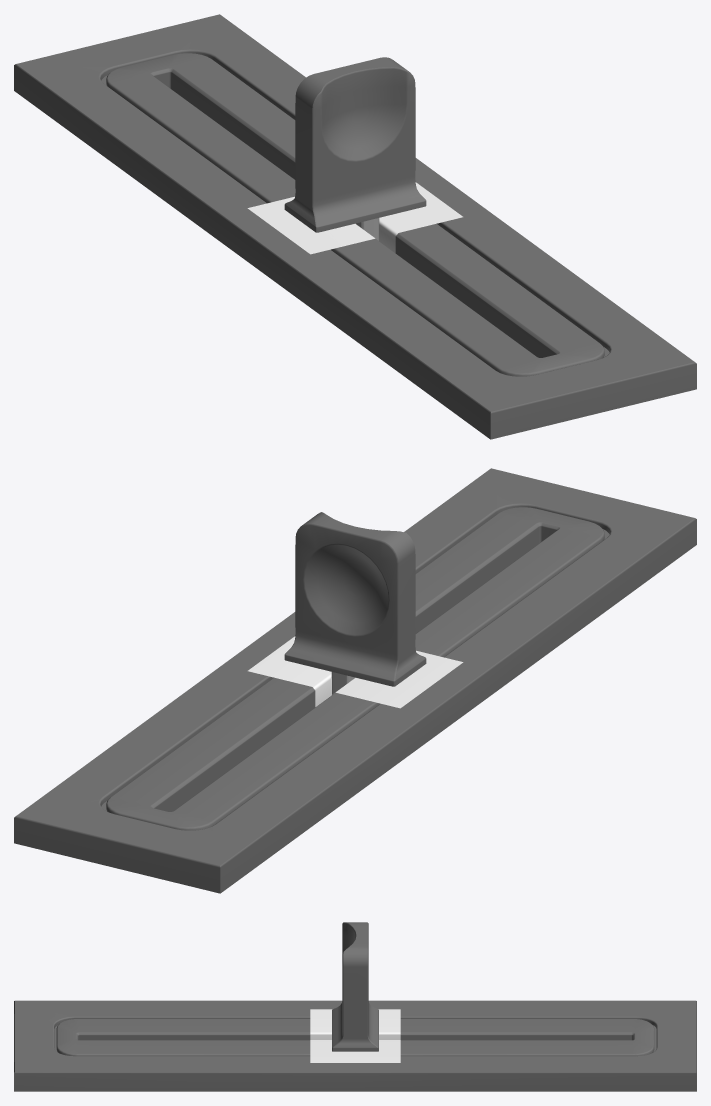
Rendered from SliderSnapToggle.fbx.
3 renders of one model, top to bottom at view 1: azimuth 30°, elevation 25°; view 2: azimuth 150°, elevation 25°; view 3: azimuth 270°, elevation 25°, orthographic. The views are drawn at different scales.
Visible parts, largest first — view 1: Cube_1, Handle_1, HandleBaseShadow_1; view 2: Cube_1, Handle_1, HandleBaseShadow_1; view 3: Cube_1, Handle_1, HandleBaseShadow_1.
Boxes of the visible parts, bbox=[...] form: Cube_1: bbox=[14, 14, 696, 439]; Handle_1: bbox=[284, 57, 426, 232]; HandleBaseShadow_1: bbox=[247, 182, 462, 254]; Cube_1: bbox=[14, 468, 696, 893]; Handle_1: bbox=[284, 512, 426, 686]; HandleBaseShadow_1: bbox=[248, 636, 463, 708]; Cube_1: bbox=[14, 1000, 696, 1091]; Handle_1: bbox=[332, 922, 378, 1051]; HandleBaseShadow_1: bbox=[310, 1009, 400, 1062].
Bounding box in the file's own units: 4 × 3.11 × 16.
